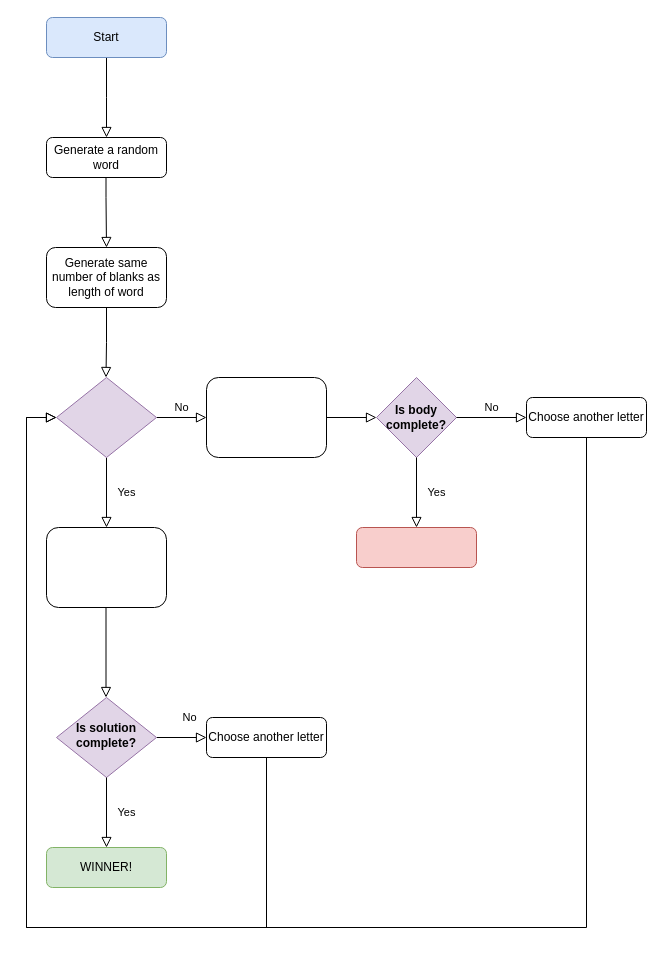
Image size: 664x955. Some labels were removed from this diagram. Here are the shapes that lost their labels. From the top down, the box of each, then its label:
(56, 376, 156, 458): Ask player to pick a letter. Is it in the word?
(206, 376, 326, 458): 1) Add body part to hangman 2) Remove letter from availability
(46, 526, 166, 608): 1) Add letter to solution 2) Remove letter from availability
(356, 526, 476, 568): LOSER!
